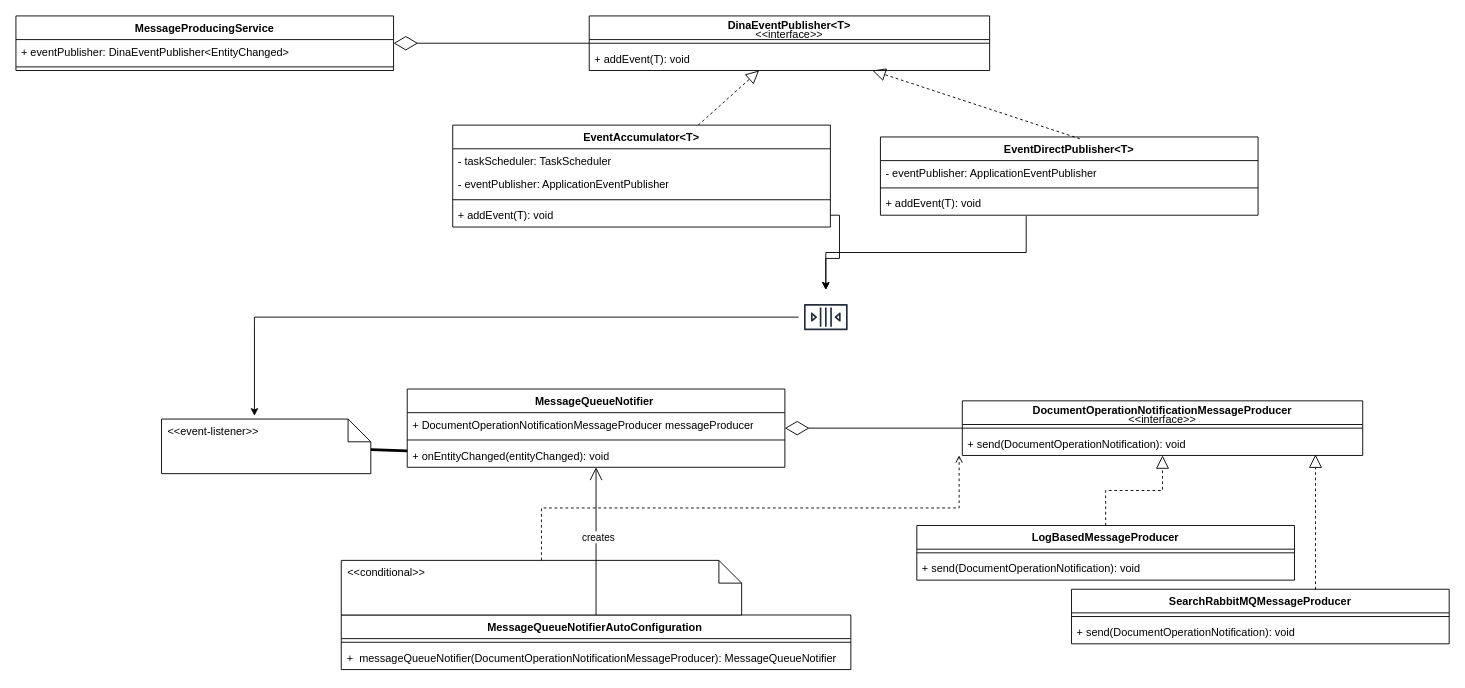
The diagram is 1465 pixels wide and 688 high, and some of its shapes have lost their labels. Each missing label, with the centre of its shape:
@ConditionalOnBean(DocumentOperationNotificationMessageProducer.class): (541,587)
@EventListener(EntityChanged.class): (266,446)
Spring ApplicationEvent "Queue": (825,316)
